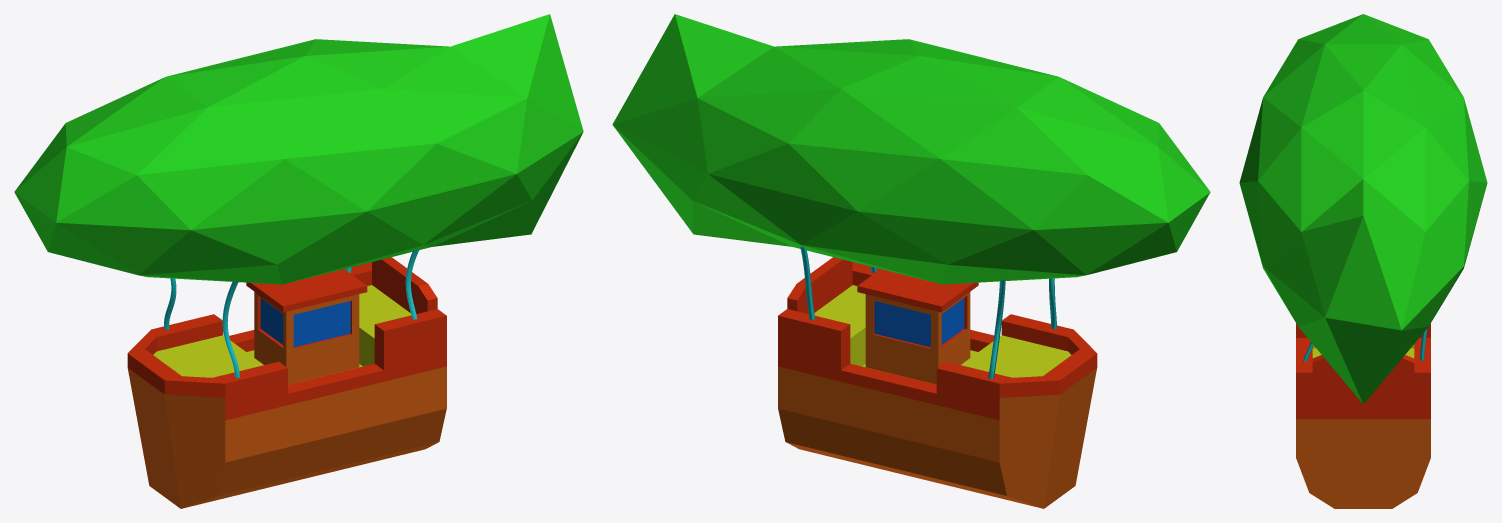
The model's file is zeppelin.obj.
3 renders of one model, left to right at view 1: azimuth 30°, elevation 25°; view 2: azimuth 150°, elevation 25°; view 3: azimuth 270°, elevation 25°, orthographic. The views are drawn at different scales.
Visible parts, largest first — view 1: Icosphere; view 2: Icosphere; view 3: Icosphere.
Boxes of the visible parts, x1,y1,x2,y2 form: Icosphere: [14, 14, 583, 508]; Icosphere: [612, 14, 1210, 508]; Icosphere: [1239, 14, 1487, 508].
Size of the model in its own units: 12.39 by 8.67 by 5.24.
